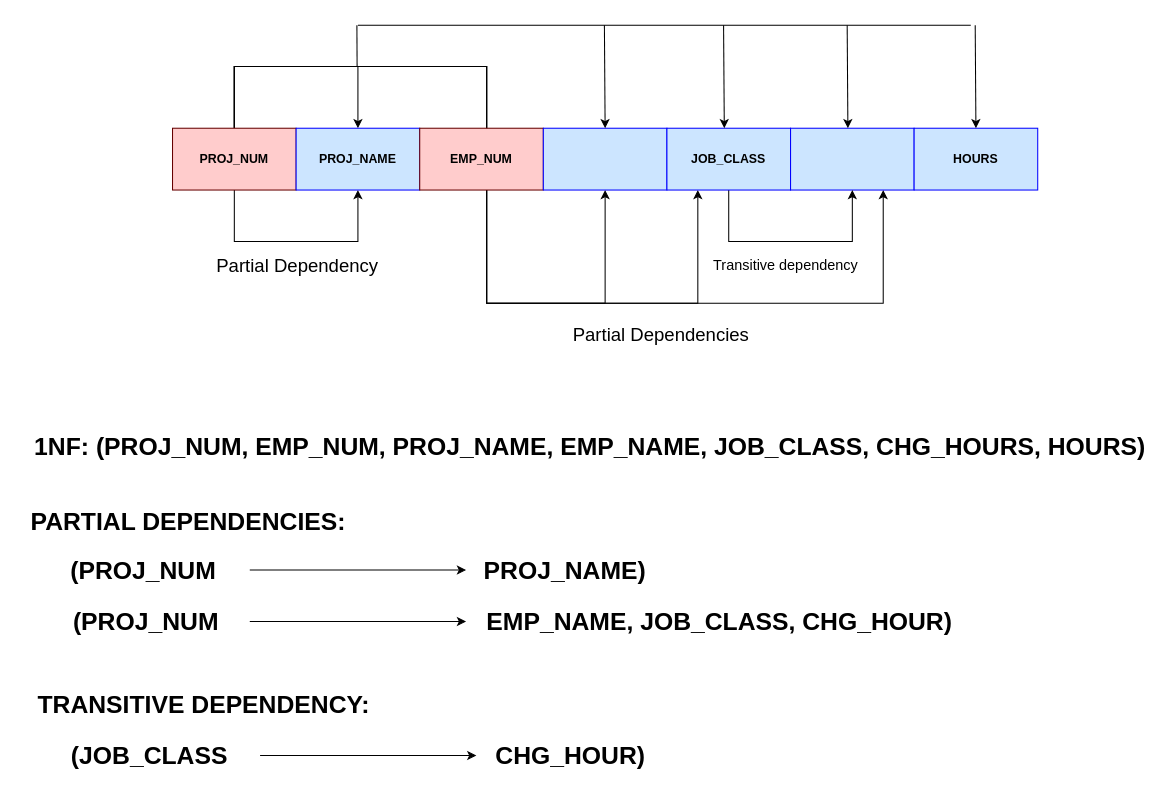
Some shapes in this 1173 by 795 pixel diagram are drawn without their labels. The shapes that lost their labels are listed below. From the top down, each one's box as (x1, y1, x2, y2) in pixels, then its label:
(542, 127, 667, 190): EMP_NAME
(789, 127, 914, 190): CHG_HOUR
